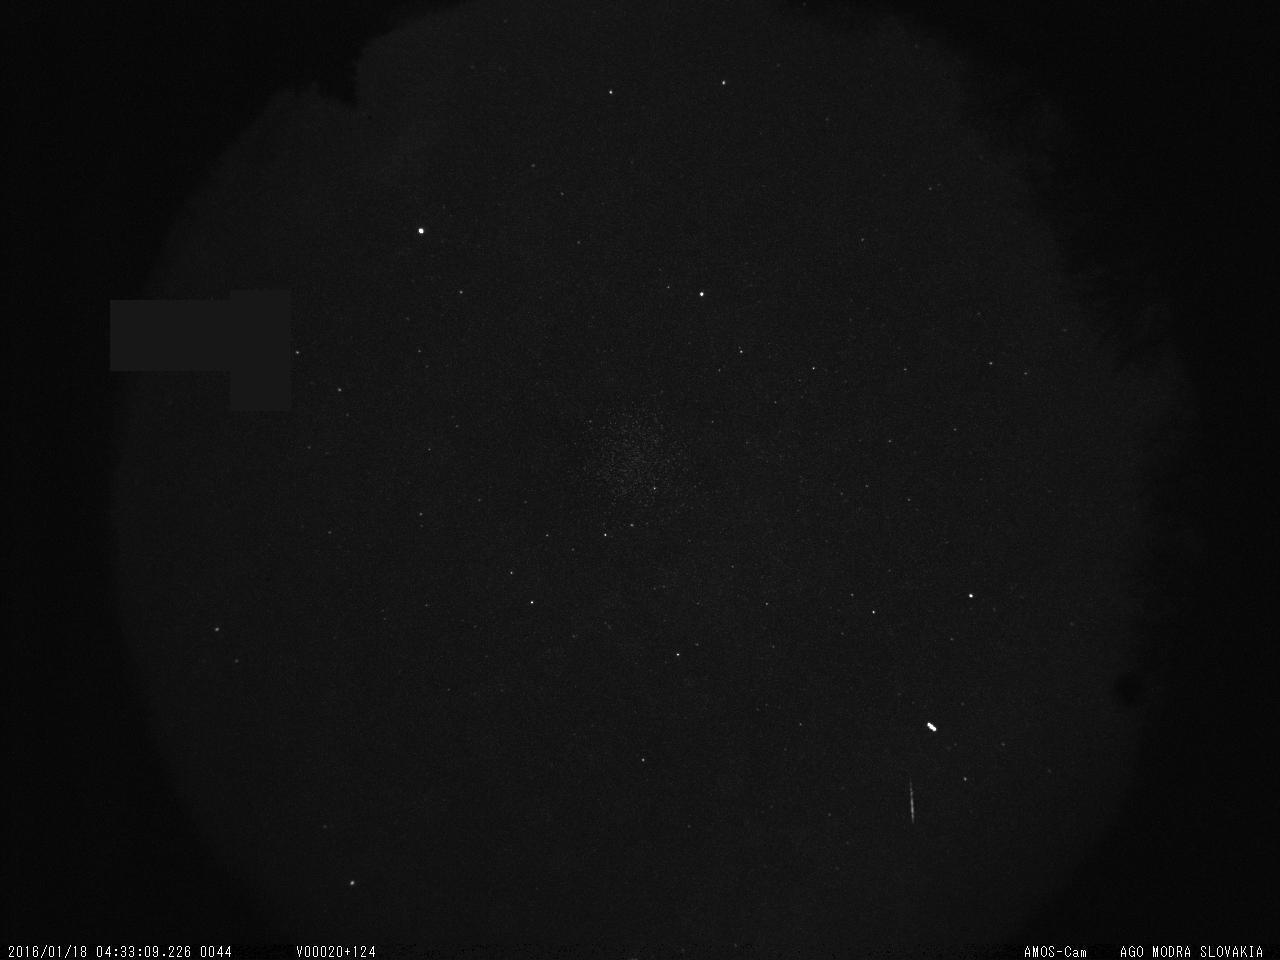meteor: (893, 766, 928, 834)
